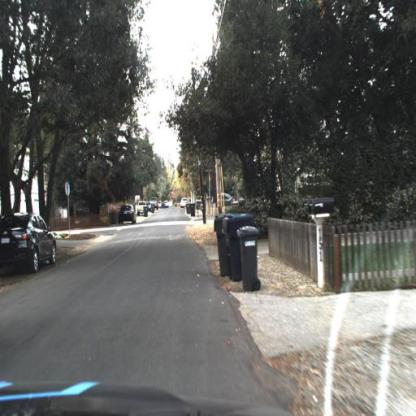car: (1, 209, 60, 271), (117, 200, 136, 226), (118, 204, 137, 223), (212, 190, 233, 205), (136, 199, 148, 215), (150, 196, 160, 210), (230, 197, 244, 207), (179, 198, 188, 206)
